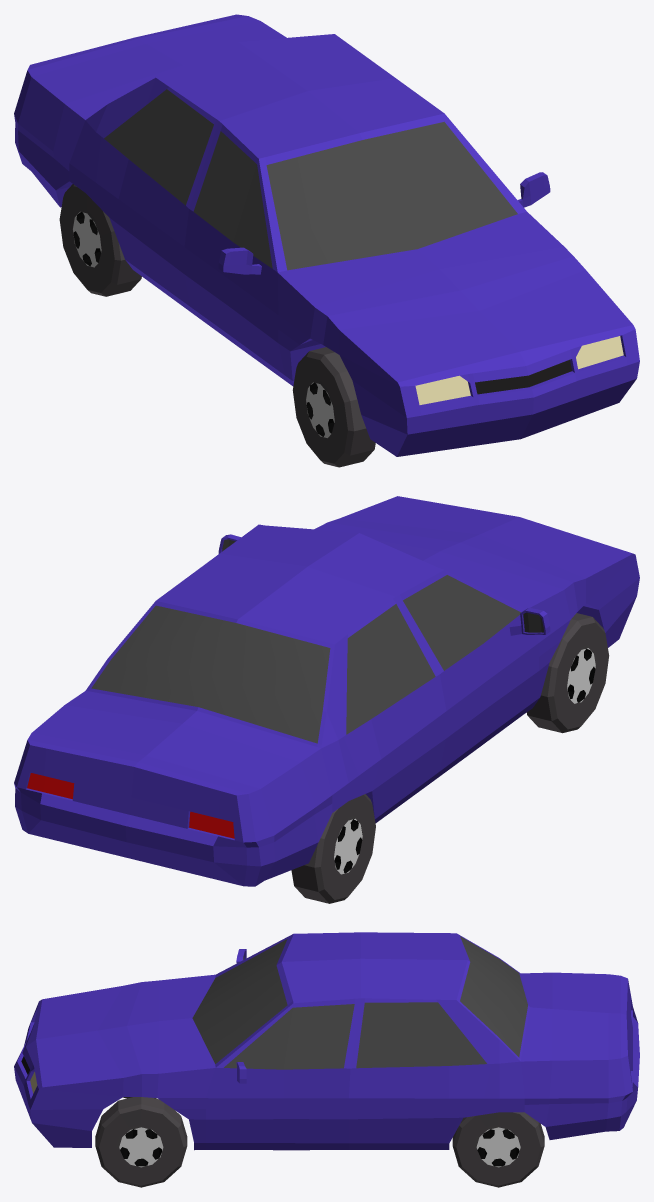
Rendered from 7DeepBlue.fbx.
3 renders of one model, top to bottom at view 1: azimuth 30°, elevation 25°; view 2: azimuth 150°, elevation 25°; view 3: azimuth 270°, elevation 25°, orthographic. The views are drawn at different scales.
Parts seen in each view (by area): view 1: Cube; view 2: Cube; view 3: Cube.
Part boxes in pixels (left/top/right/bottom): Cube: left=14, top=14, right=639, bottom=467; Cube: left=14, top=496, right=639, bottom=903; Cube: left=14, top=932, right=639, bottom=1187.
Bounding box in the file's own units: 275 × 190 × 594.
